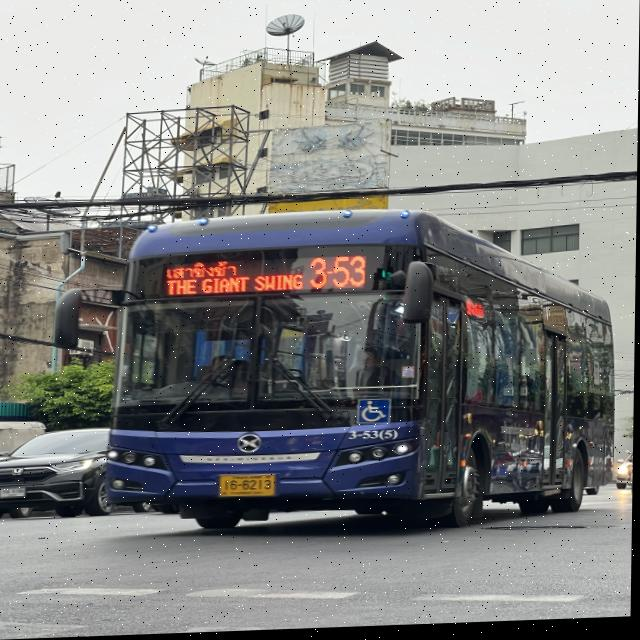Bus Line Number: (303, 250, 375, 297)
Bus Side Number: (346, 430, 405, 447)
Destination Sign: (156, 257, 313, 298)
TSB-Bus: (103, 213, 616, 535)
